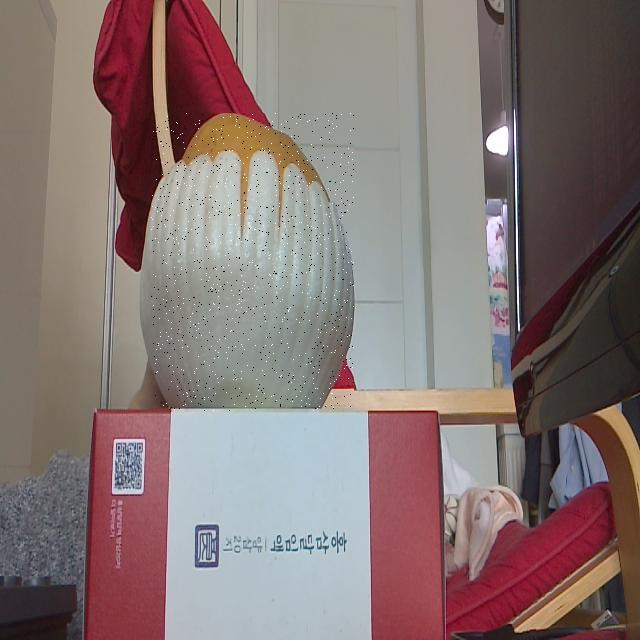pear: (151, 114, 354, 412)
